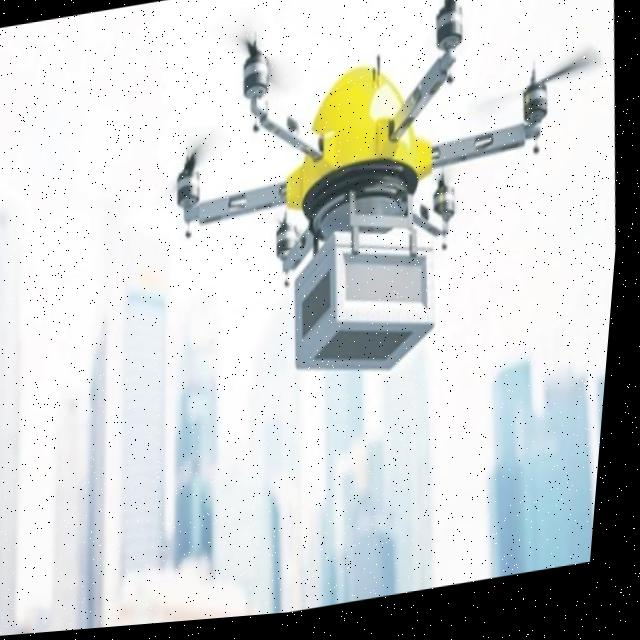drones: (122, 0, 628, 437)
